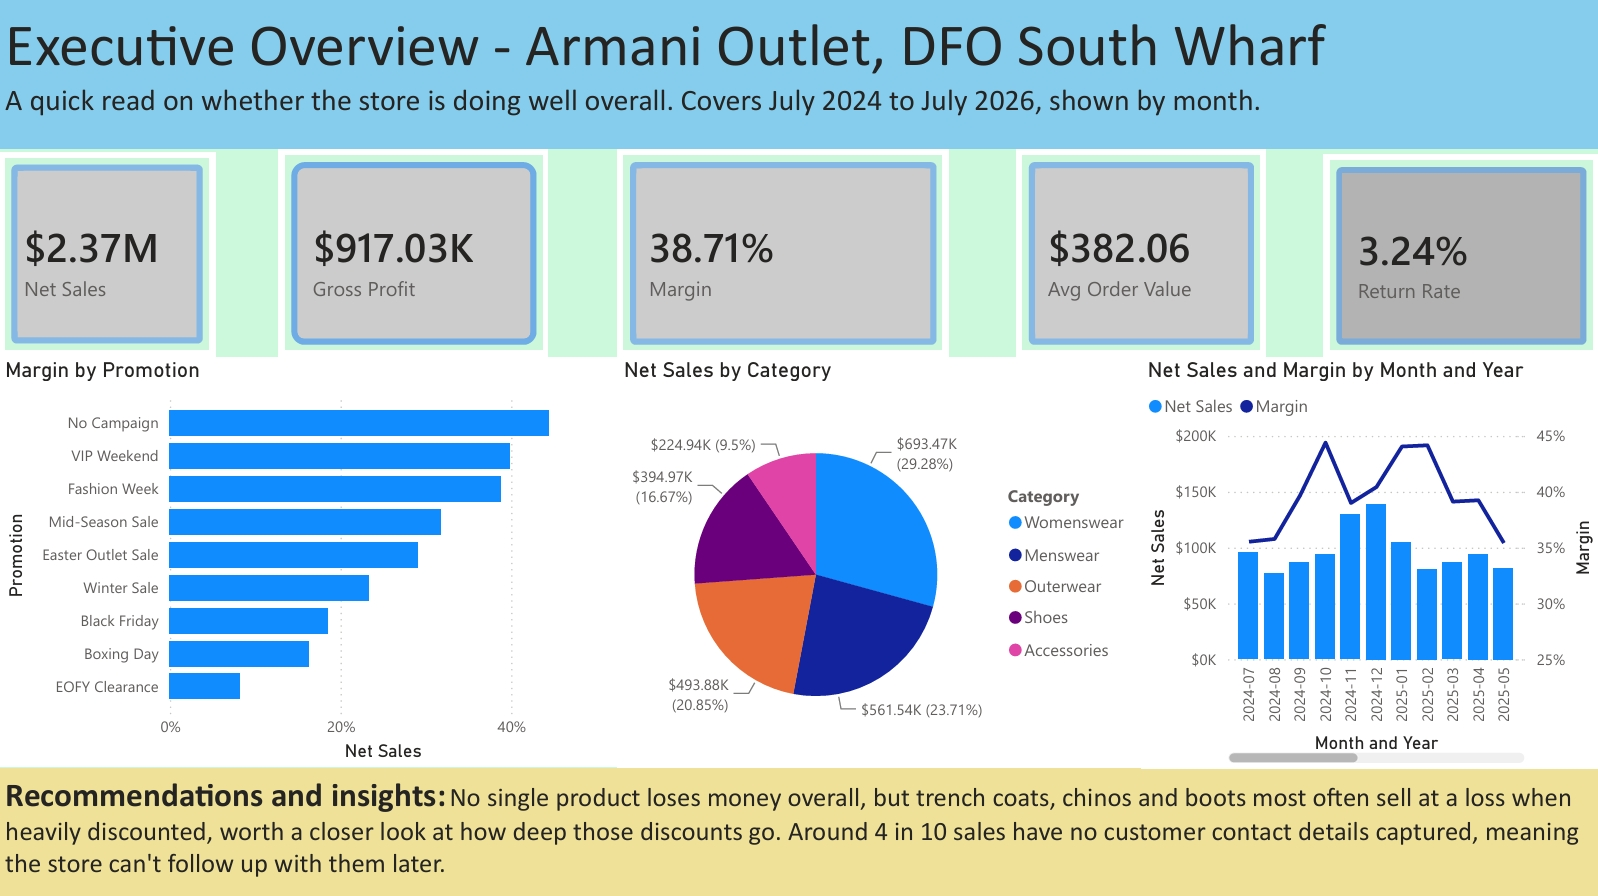

What the dashboard file says about the page in this screenshot:
{"tool":"powerbi","page":{"name":"Executive Overview","canvas":[1280,720],"ordinal":0},"visuals":[{"type":"pieChart","title":"Net Sales by Category","fields":{"Y":["Measures_Table.Money coming in"],"Category":["Product.Category"]},"box":[495,285,418.8,328.8],"z":0},{"type":"cardVisual","fields":{"Data":["Measures_Table.Net Sales"]},"box":[0,121.2,173.8,163.8],"z":1000},{"type":"cardVisual","fields":{"Data":["Measure.Gross Profit"]},"box":[223.8,118.8,216.2,166.2],"z":2000},{"type":"cardVisual","fields":{"Data":["Measures_Table.Margin %"]},"box":[495,118.8,265,166.2],"z":3000},{"type":"cardVisual","fields":{"Data":["Measures_Table.Avg Order Value"]},"box":[813.8,118.8,200,166.2],"z":4000},{"type":"cardVisual","fields":{"Data":["Measure.Return Rate"]},"box":[1060,122.5,220,162.5],"z":5000},{"type":"clusteredBarChart","title":"Margin by Promotion","fields":{"Y":["Measures_Table.How much of each sale is profit"],"Category":["Promotion.Promotion"]},"box":[0,285.1,494.8,327.6],"z":6000},{"type":"textbox","box":[0,0,1280.3,119.3],"z":7000},{"type":"textbox","box":[0,614.1,1280.3,106.9],"z":8000},{"type":"lineClusteredColumnComboChart","title":"Net Sales and Margin by Month and Year","fields":{"Y":["Measure.Net Sales"],"Category":["Date.Year Month"],"Y2":["Measure.Margin"]},"box":[914.3,285.1,366,329],"z":9000}]}

Visuals, with their boxes in screenshot pixels (x1, y1, x2, y2), scaled from the page's 1280x720 canvas onto the 1598x896 screenshot:
"Net Sales by Category" pieChart: [x1=618, y1=355, x2=1141, y2=764]
cardVisual - Measures_Table.Net Sales: [x1=0, y1=151, x2=217, y2=355]
cardVisual - Measure.Gross Profit: [x1=279, y1=148, x2=549, y2=355]
cardVisual - Measures_Table.Margin %: [x1=618, y1=148, x2=949, y2=355]
cardVisual - Measures_Table.Avg Order Value: [x1=1016, y1=148, x2=1266, y2=355]
cardVisual - Measure.Return Rate: [x1=1323, y1=152, x2=1597, y2=355]
"Margin by Promotion" clusteredBarChart: [x1=0, y1=355, x2=618, y2=762]
textbox: [x1=0, y1=0, x2=1597, y2=148]
textbox: [x1=0, y1=764, x2=1597, y2=895]
"Net Sales and Margin by Month and Year" lineClusteredColumnComboChart: [x1=1141, y1=355, x2=1597, y2=764]
